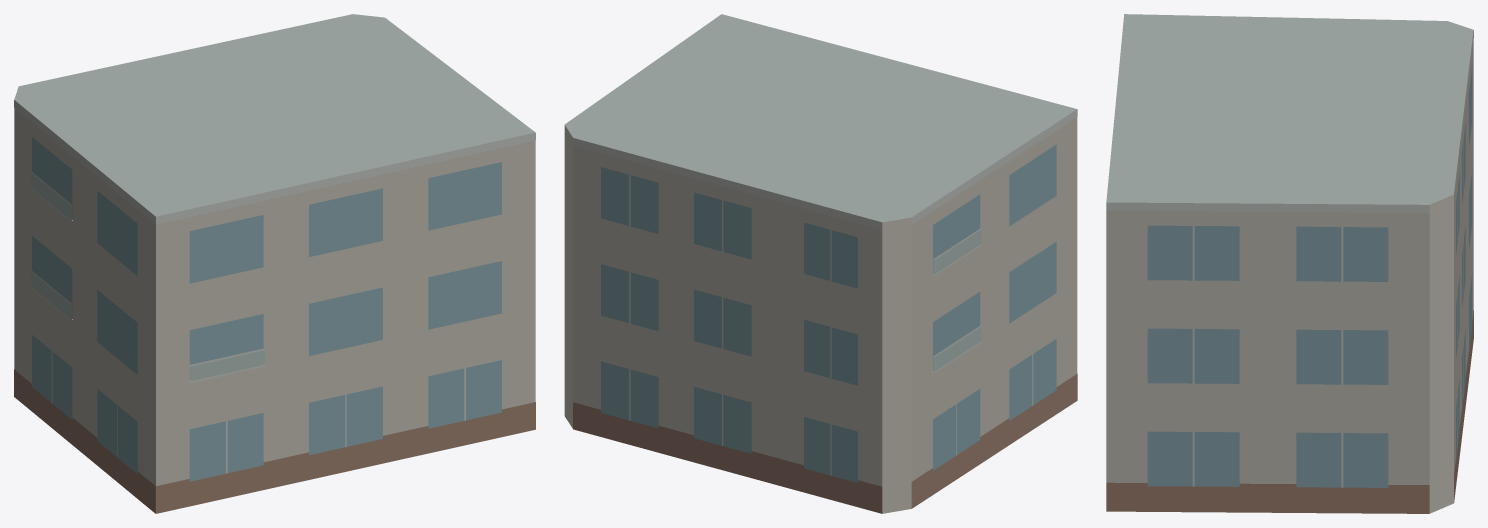
Rendered from survey-upis-33039039.glb.
The picture shows the model from 3 angles, left to right: view 1: azimuth 30°, elevation 25°; view 2: azimuth 150°, elevation 25°; view 3: azimuth 270°, elevation 25°; orthographic projection. The views are drawn at different scales.
Visible parts, largest first — view 1: survey-upis-33039039.tmp; view 2: survey-upis-33039039.tmp; view 3: survey-upis-33039039.tmp.
Part boxes in pixels (x1,y1,x2,y2): survey-upis-33039039.tmp: [14, 14, 535, 513]; survey-upis-33039039.tmp: [564, 14, 1077, 513]; survey-upis-33039039.tmp: [1106, 14, 1473, 513].
Size of the model in its own units: 12.13 by 9.15 by 9.87.
